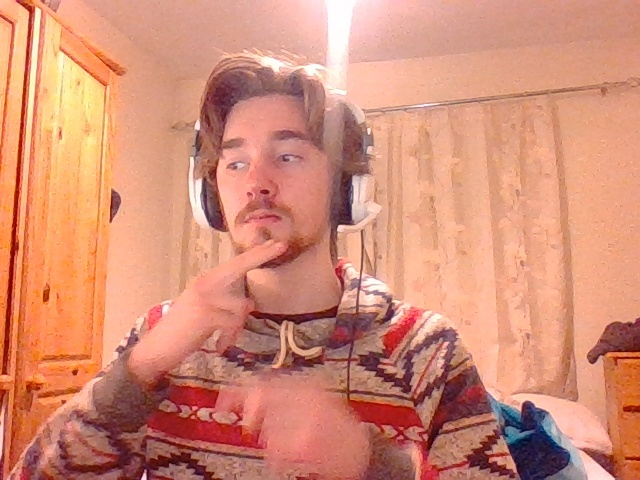afternoon: (130, 236, 287, 386)
